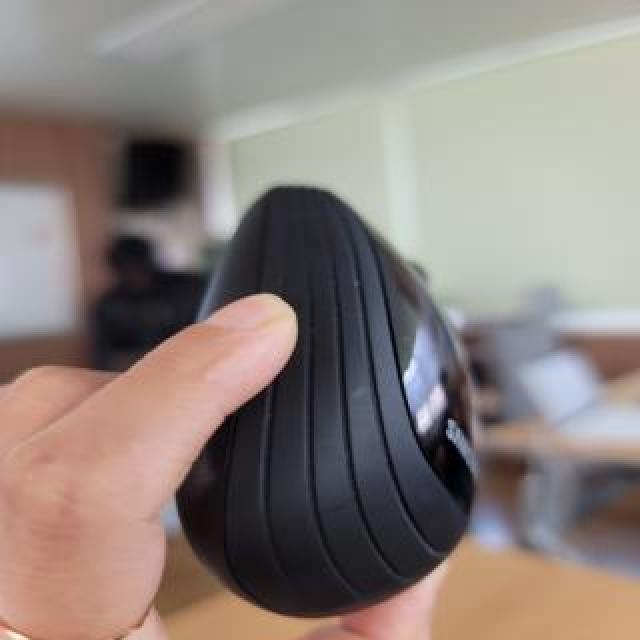mouse: (152, 123, 455, 612)
